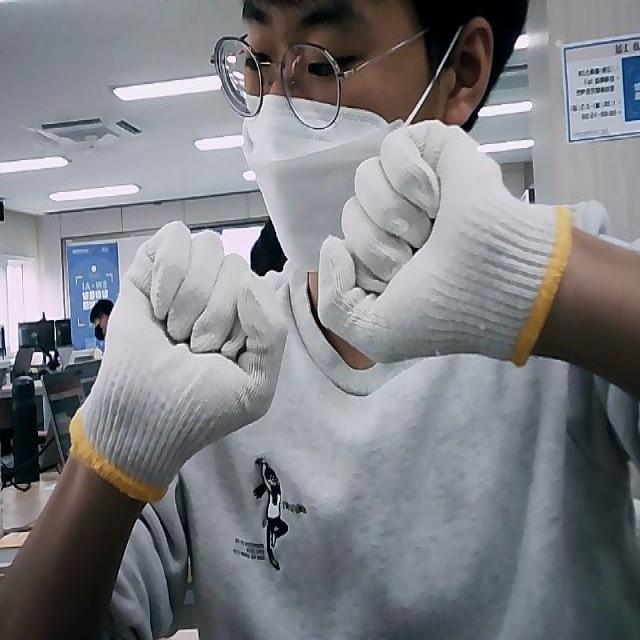gloves: (318, 120, 572, 362), (70, 223, 282, 495)
